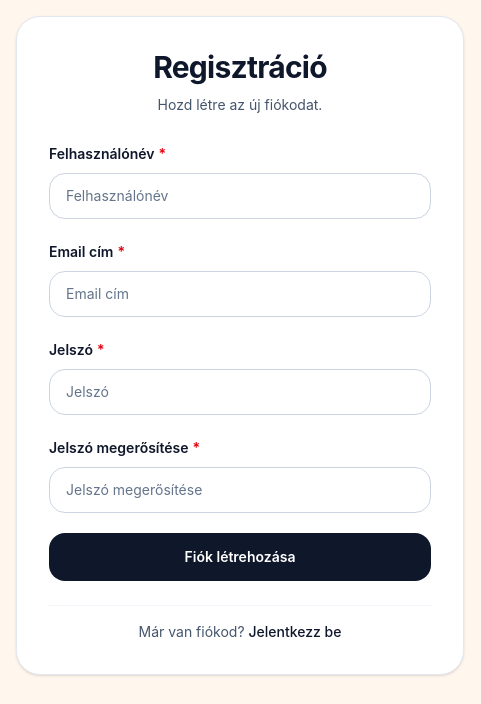
Test case: RegisterPage › maps backend field errors to the matching form fields
Type "  anna  " into the field labelled "Felhasználónév*" at (240, 196), box [49,173,431,219]
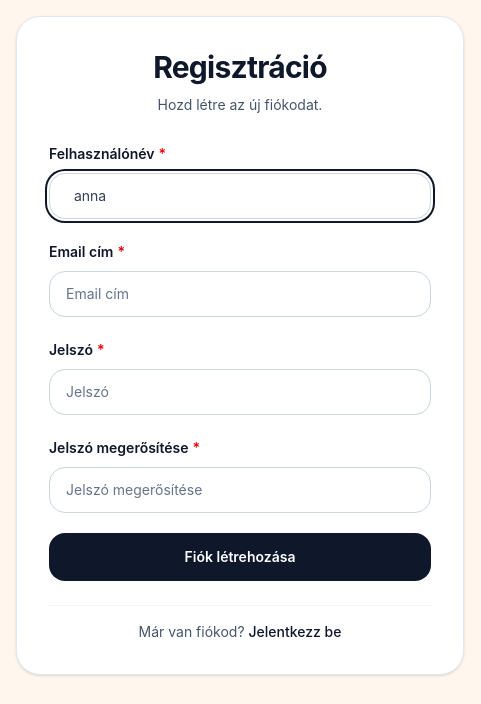
Type "  anna@gmail.com  " into the field labelled "Email cím*" at (240, 294), box [49,271,431,317]
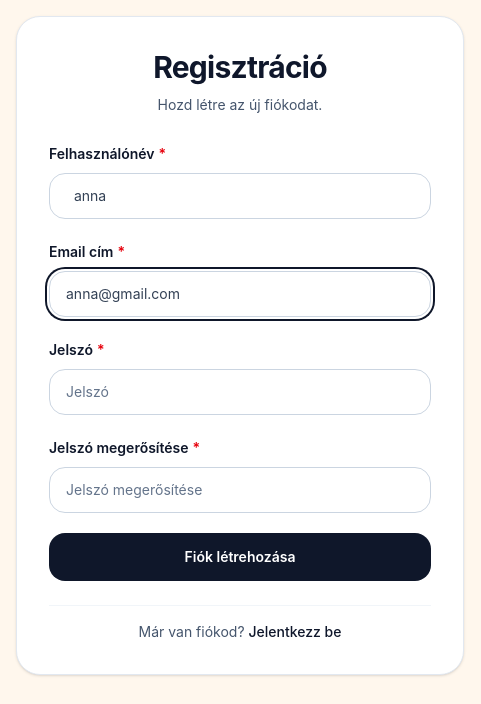
Type "titok123" into the password field labelled "Jelszó*" at (240, 392), box [49,369,431,415]
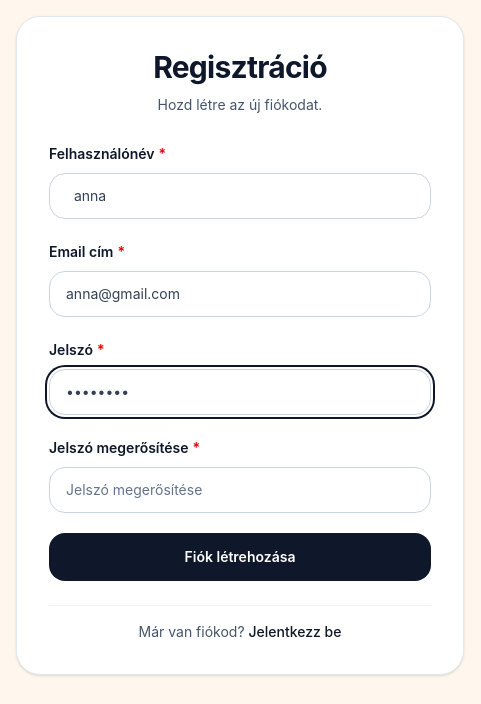
Type "titok123" into the password field labelled "Jelszó megerősítése*" at (240, 490), box [49,467,431,513]
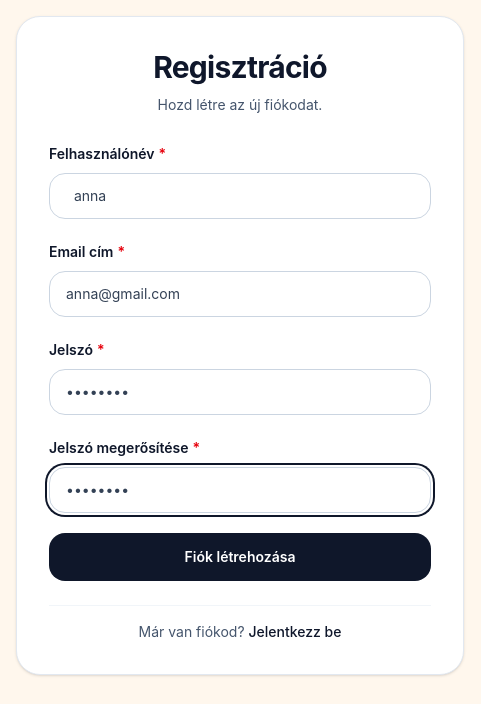
Click the button "Fiók létrehozása" at (240, 557), box [49,533,431,581]
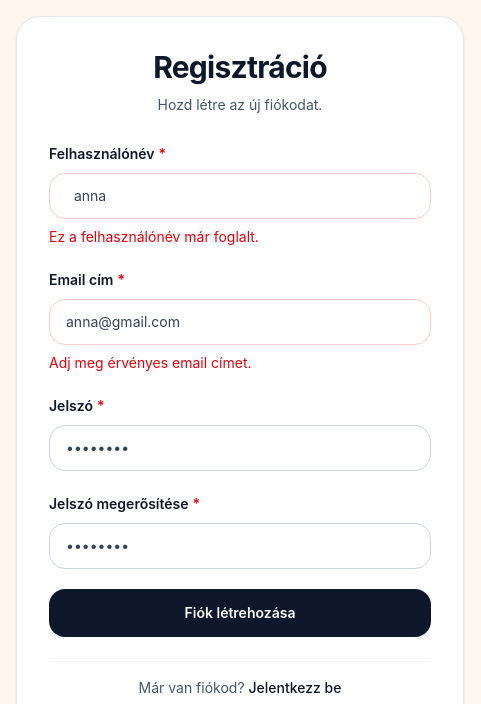
Now the text "Ez a felhasználónév már foglalt." is shown, box [49,228,259,245]
Now the text "Adj meg érvényes email címet." is shown, box [49,354,252,371]
